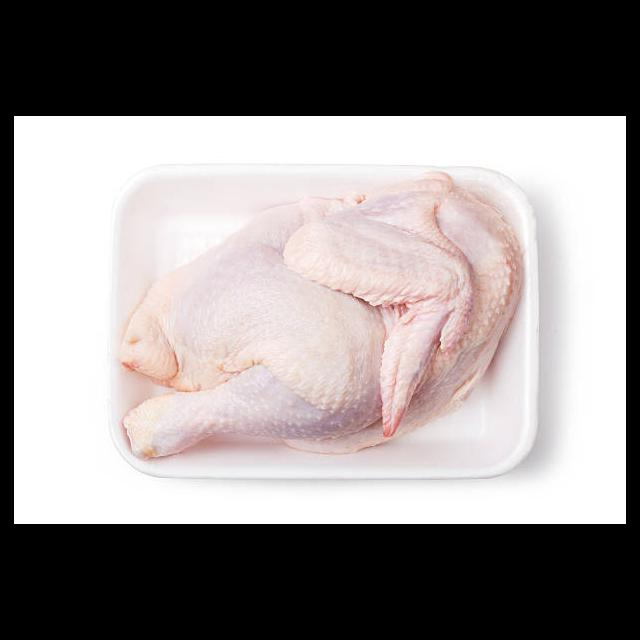chicken: (120, 171, 527, 461)
